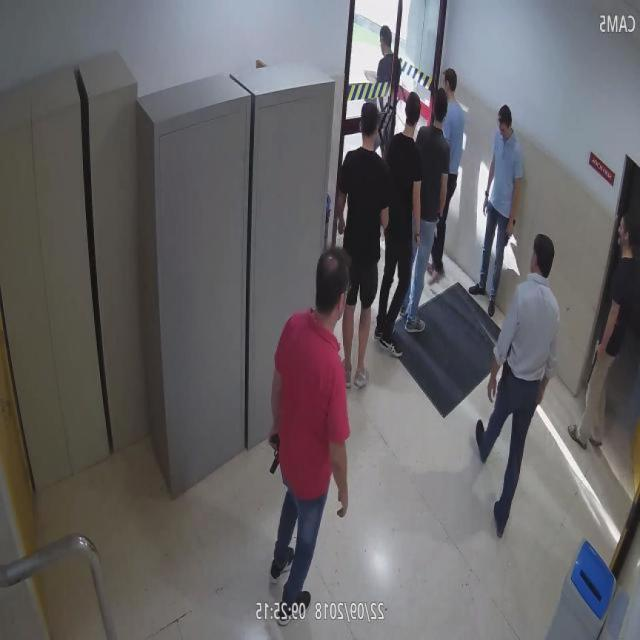pistol: (267, 432, 282, 476), (500, 360, 510, 386)
